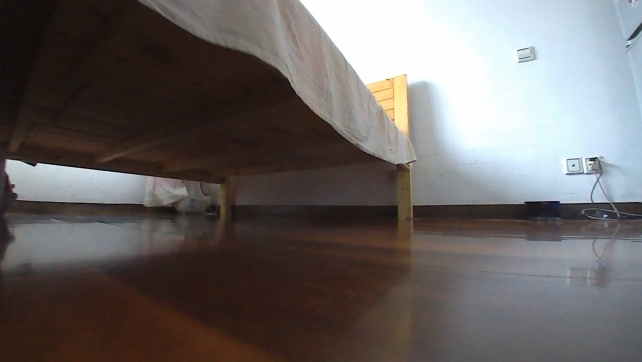bed1: (0, 0, 421, 226)
charger: (521, 197, 568, 223)
wire: (579, 156, 641, 224)
